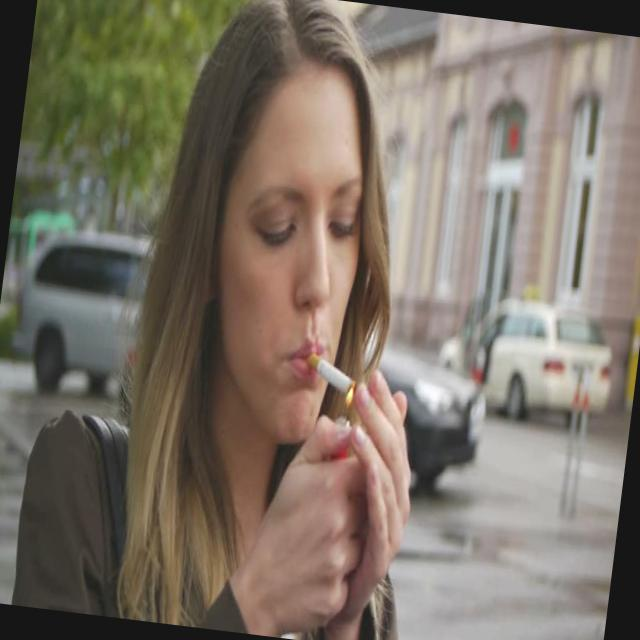smoke: (292, 321, 374, 431)
